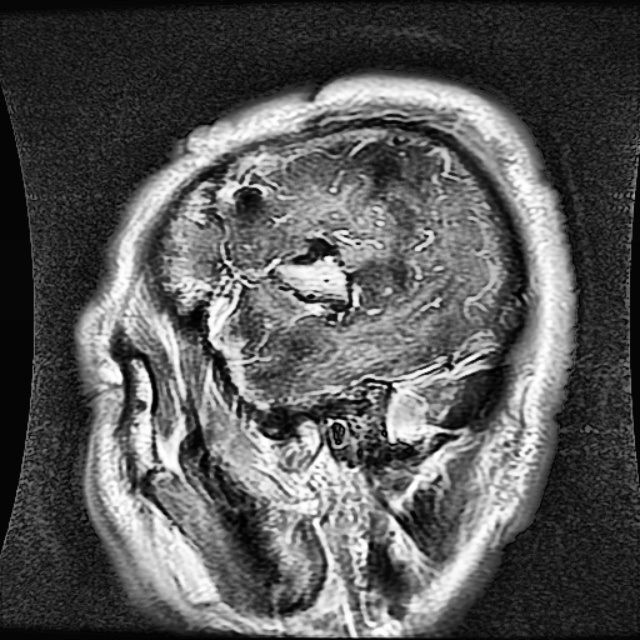Meningioma: (274, 227, 352, 318)
